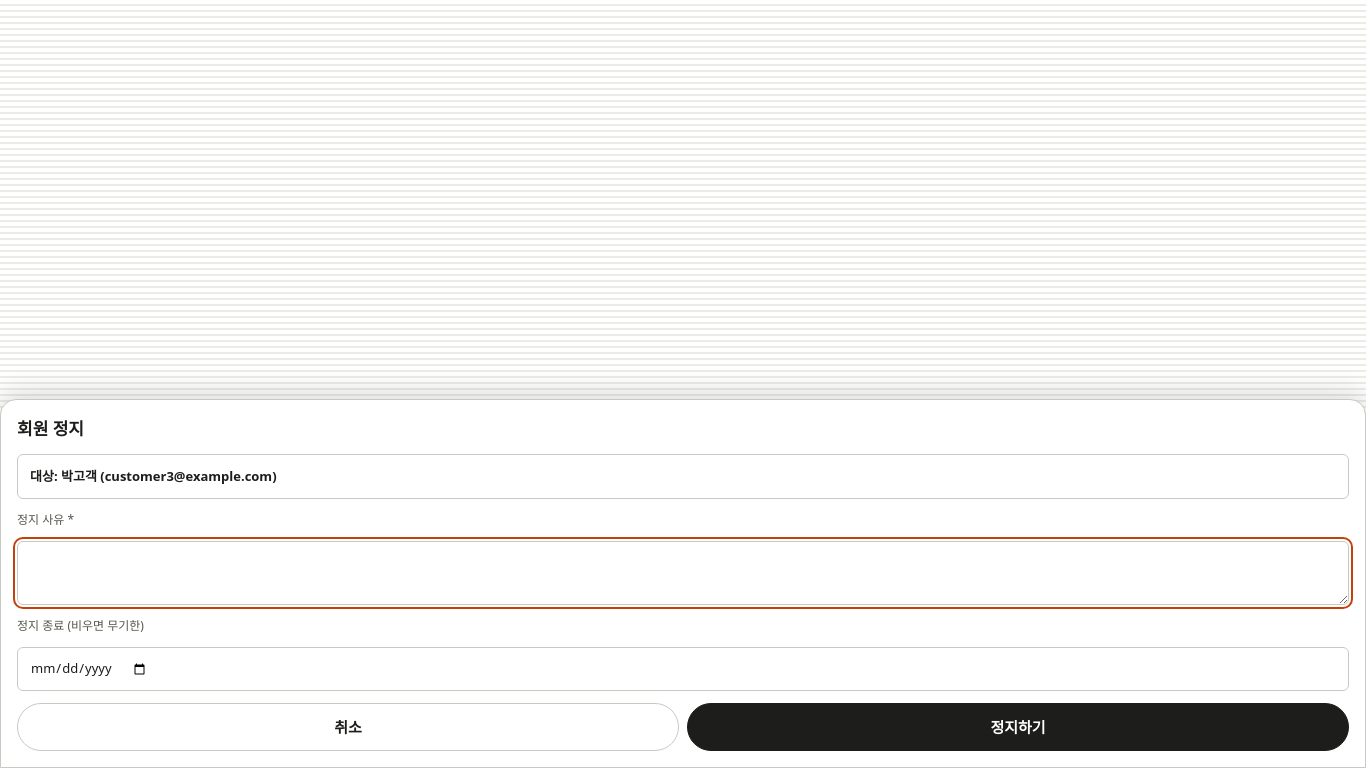
Test: SanctionSheet (M2) › 사유가 없으면 보내지 않고 오류를 보인다
Click the button "정지하기" at (1018, 727), box x1=687 y1=703 x2=1349 y2=751
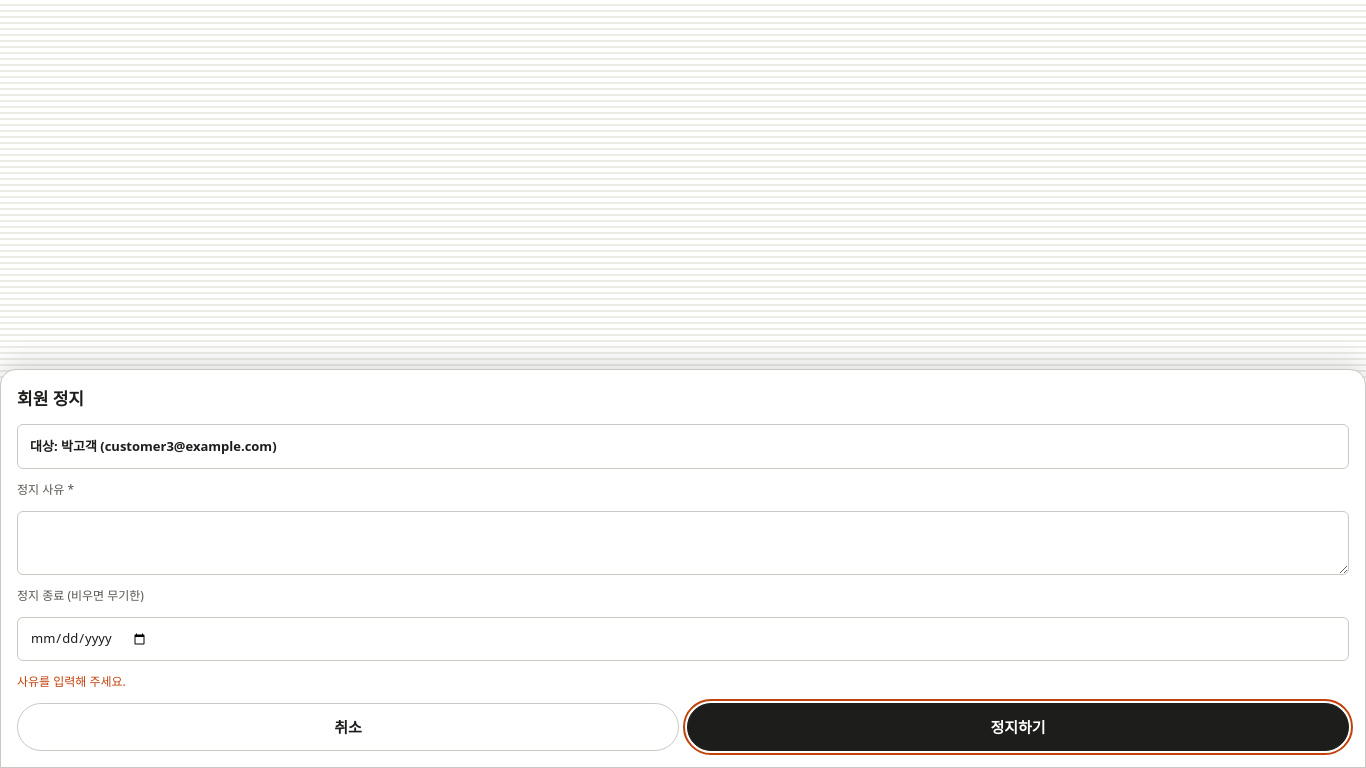
Now the message reads "사유를 입력해 주세요.", box x1=17 y1=673 x2=126 y2=690
